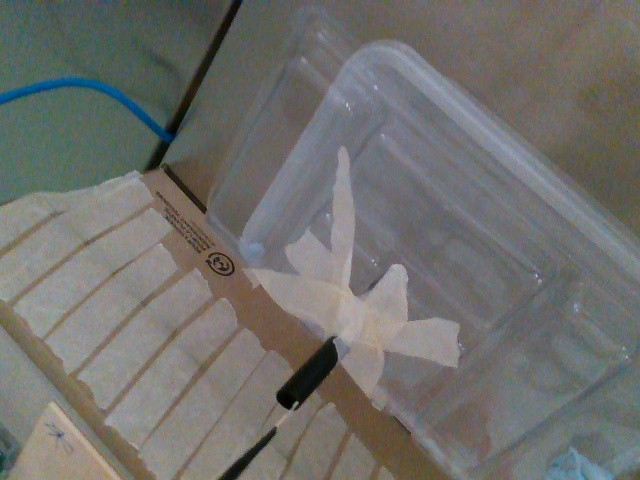test_strip: (216, 402, 292, 478)
